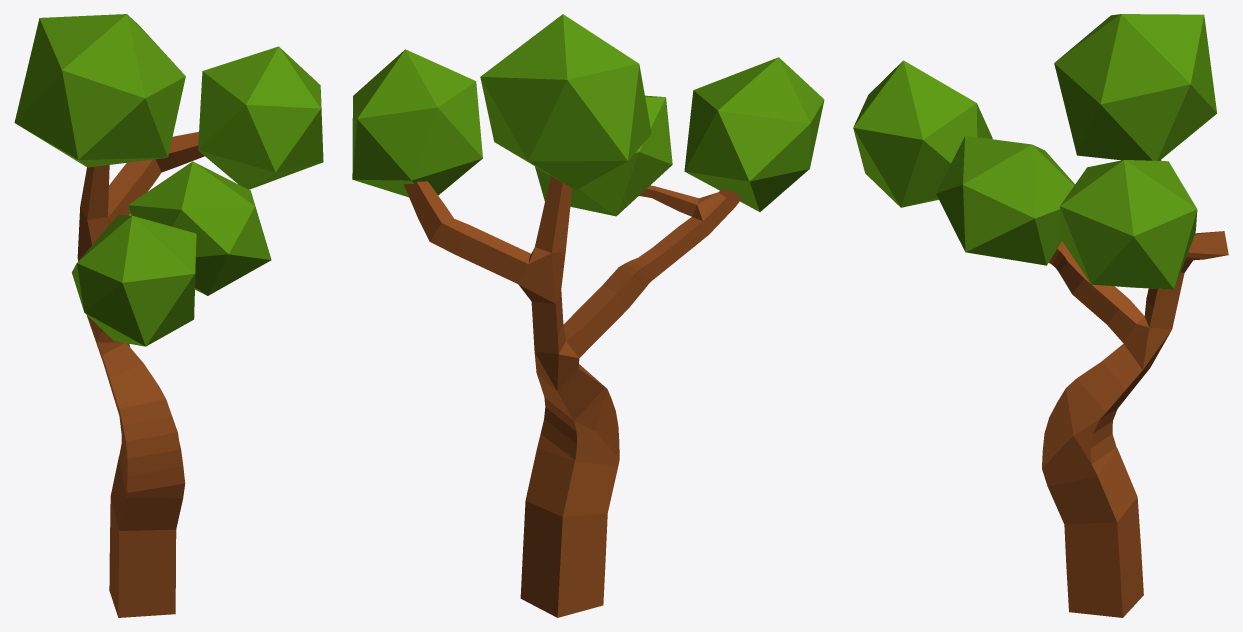
Rendered from Tree.fbx.
3 renders of one model, left to right at view 1: azimuth 30°, elevation 25°; view 2: azimuth 150°, elevation 25°; view 3: azimuth 270°, elevation 25°, orthographic.
Visible parts, largest first — view 1: Icosphere.001; view 2: Icosphere.001; view 3: Icosphere.001.
Boxes of the visible parts, <box> form: Icosphere.001: <box>14,14,323,617</box>; Icosphere.001: <box>352,14,824,617</box>; Icosphere.001: <box>853,14,1228,617</box>.
Bounding box in the file's own units: 819 × 1324 × 768.
